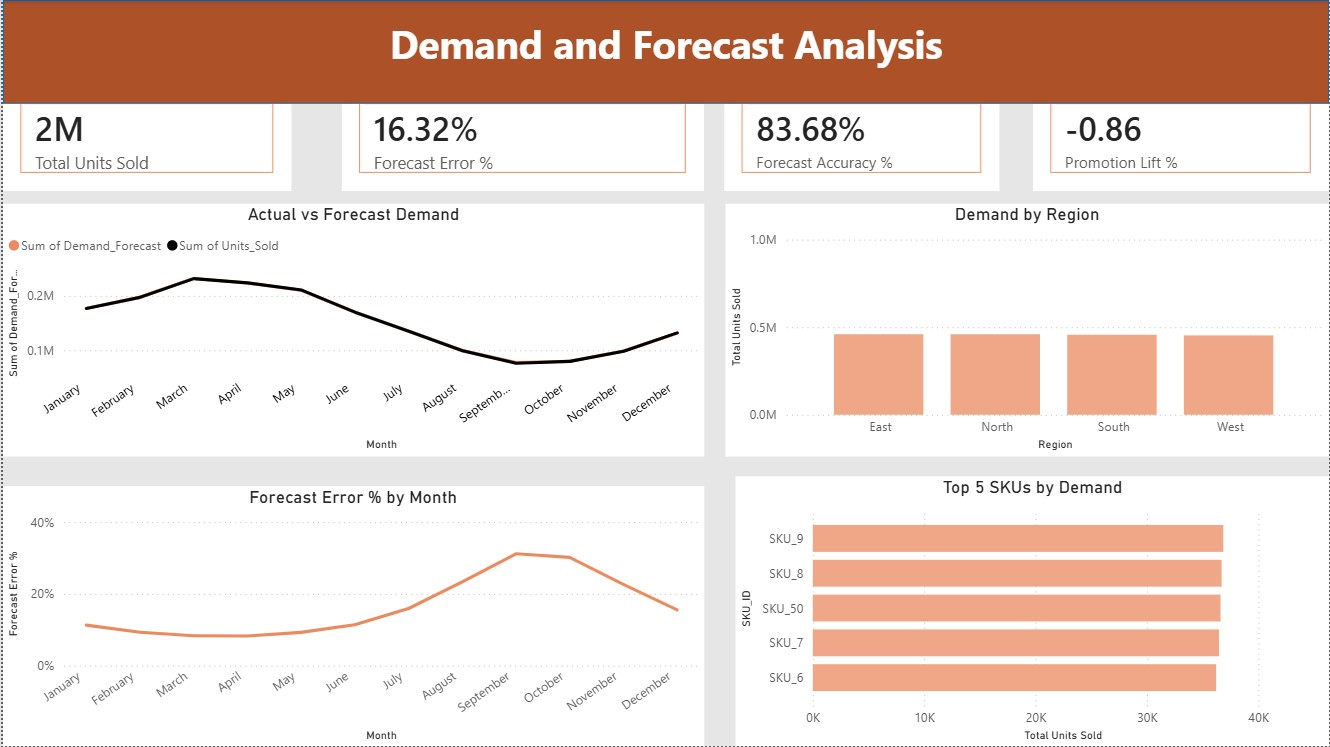

The dashboard page shown, as its layout file describes it:
{"tool":"powerbi","page":{"name":"Demand and Forecast Analysis","canvas":[1280,720],"ordinal":2},"visuals":[{"type":"cardVisual","fields":{"Data":["_Measures.Total Units Sold"]},"box":[0,90,278.8,106.2],"z":0},{"type":"cardVisual","fields":{"Data":["_Measures.Promotion Lift %"]},"box":[993.8,90,286.2,106.2],"z":1000},{"type":"cardVisual","fields":{"Data":["_Measures.Forecast Accuracy %"]},"box":[696.2,90,265,106.2],"z":2000},{"type":"cardVisual","fields":{"Data":["_Measures.Forecast Error %"]},"box":[327.5,90,348.8,106.2],"z":3000},{"type":"lineChart","title":"Actual vs Forecast Demand","fields":{"Category":["DimDate.Month"],"Y":["Sum(supply_chain_dataset1.Demand_Forecast)","Sum(supply_chain_dataset1.Units_Sold)"]},"box":[0,196.6,676.8,243.7],"z":4000},{"type":"lineChart","fields":{"Category":["DimDate.Month"],"Y":["_Measures.Forecast Error %"]},"box":[0,469.3,676.5,251.1],"z":5000},{"type":"clusteredColumnChart","title":"Demand by Region","fields":{"Category":["DImRegion.Region"],"Y":["_Measures.Total Units Sold"]},"box":[697.3,196.6,582.7,243.7],"z":6000},{"type":"barChart","title":"Top 5 SKUs by Demand","fields":{"Category":["DimProduct.SKU_ID"],"Y":["_Measures.Total Units Sold"]},"box":[706.7,459.7,573.6,260.7],"z":7000},{"type":"shape","box":[0,0,1280,100.1],"z":7002},{"type":"textbox","box":[0,12.1,1280,61.5],"z":7003}]}

Visuals, with their boxes in screenshot pixels (x1, y1, x2, y2), scaled from the page's 1280x720 canvas onto the 1330x747 screenshot:
cardVisual - _Measures.Total Units Sold: [0, 93, 290, 204]
cardVisual - _Measures.Promotion Lift %: [1033, 93, 1329, 204]
cardVisual - _Measures.Forecast Accuracy %: [723, 93, 999, 204]
cardVisual - _Measures.Forecast Error %: [340, 93, 703, 204]
"Actual vs Forecast Demand" lineChart: [0, 204, 703, 457]
lineChart - DimDate.Month x _Measures.Forecast Error %: [0, 487, 703, 746]
"Demand by Region" clusteredColumnChart: [725, 204, 1329, 457]
"Top 5 SKUs by Demand" barChart: [734, 477, 1329, 746]
shape: [0, 0, 1329, 104]
textbox: [0, 13, 1329, 76]
